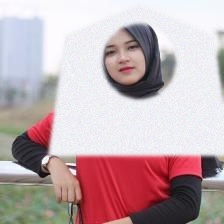Mukena: (48, 3, 224, 156)
